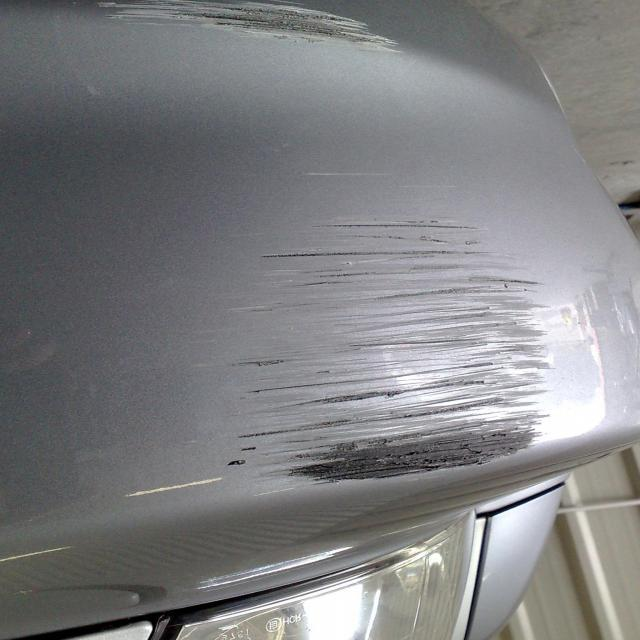scratch: (170, 191, 612, 504), (6, 0, 420, 79)
